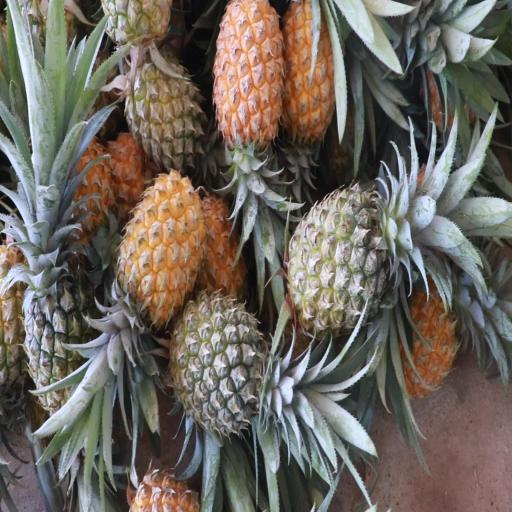------------------------------: (1, 236, 31, 424)
Pineapple - v8 v1: (102, 178, 206, 364), (212, 0, 284, 213), (283, 1, 339, 164)
